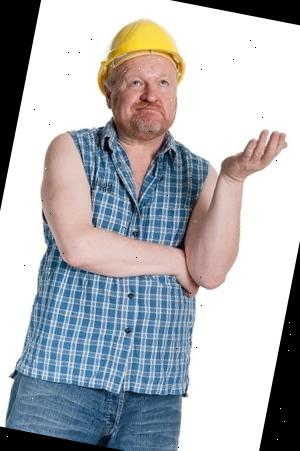helmet: (95, 11, 194, 107)
no_wear: (13, 126, 218, 400)
